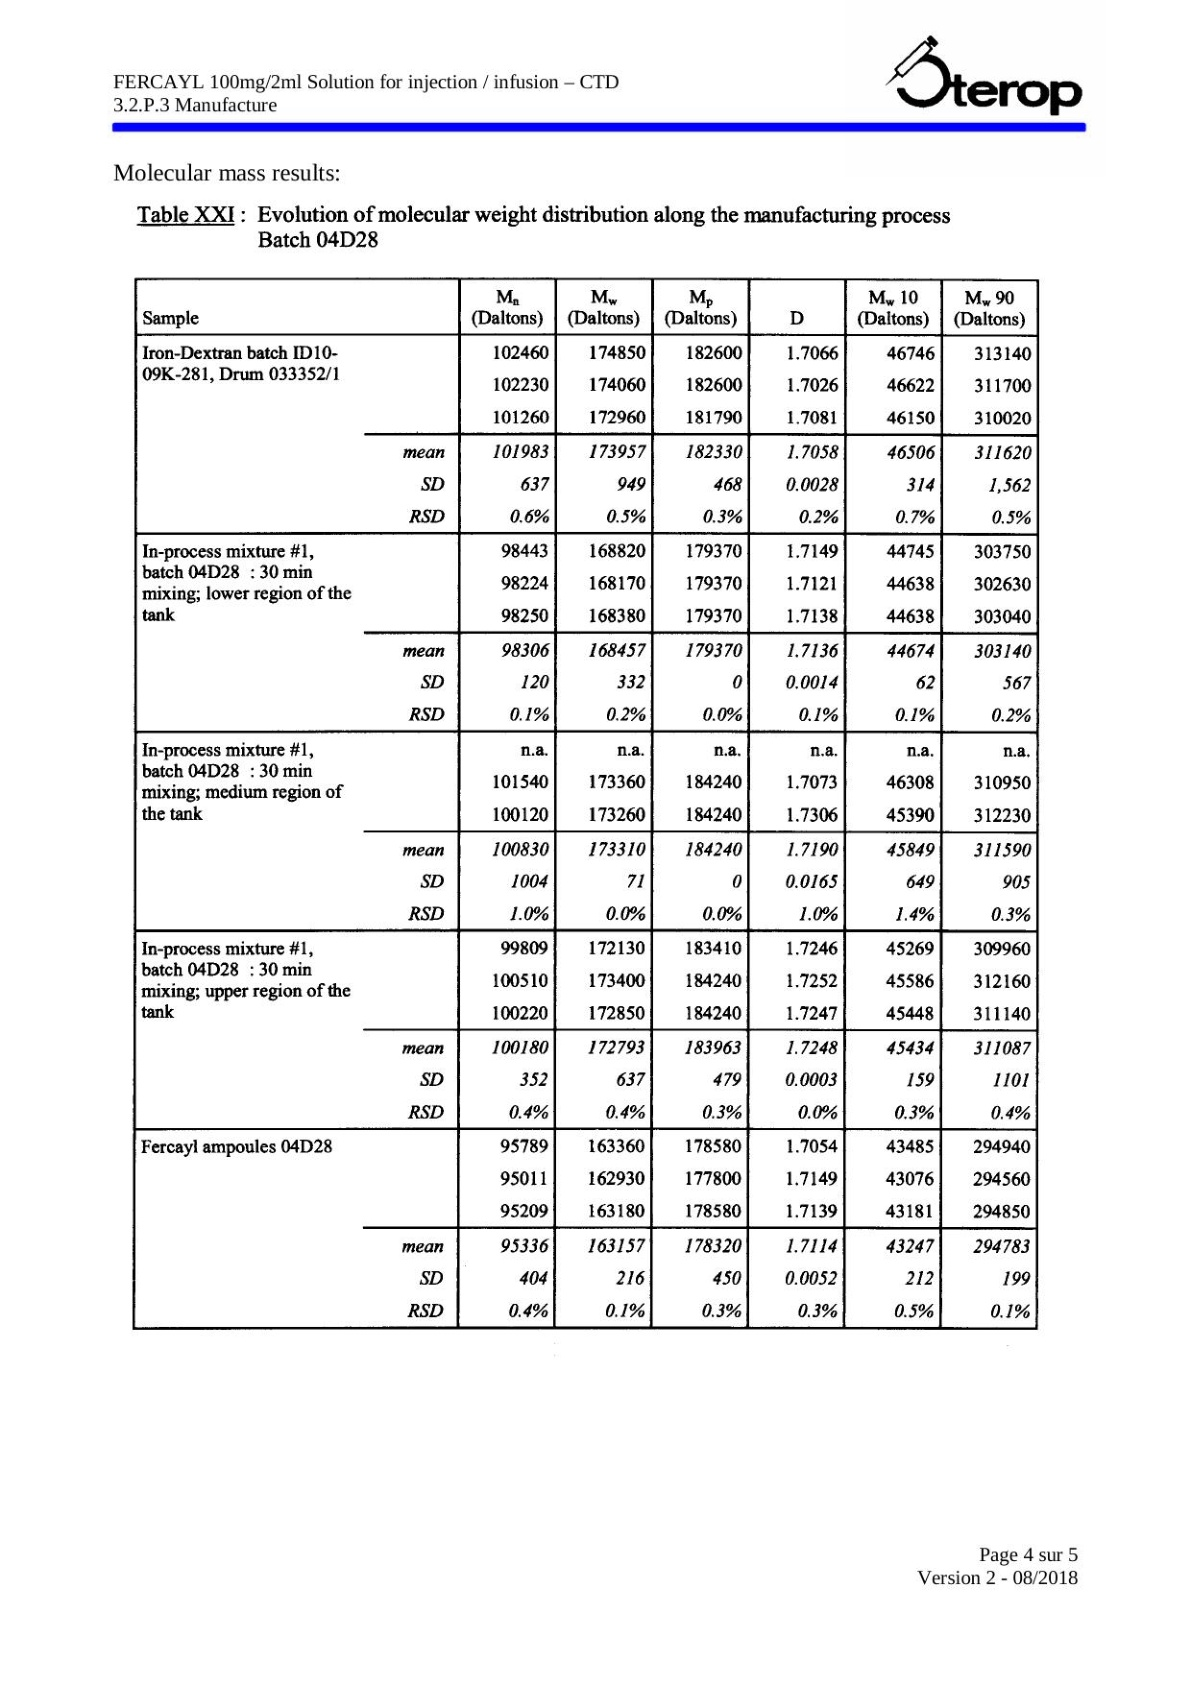merged_cells: (131, 277, 1039, 1330)
